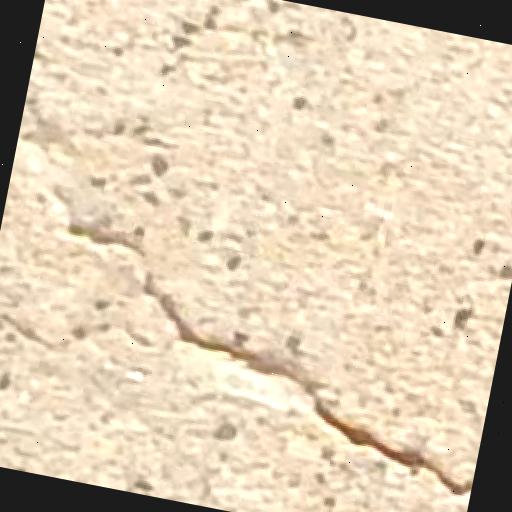spalling: (62, 191, 463, 512)
